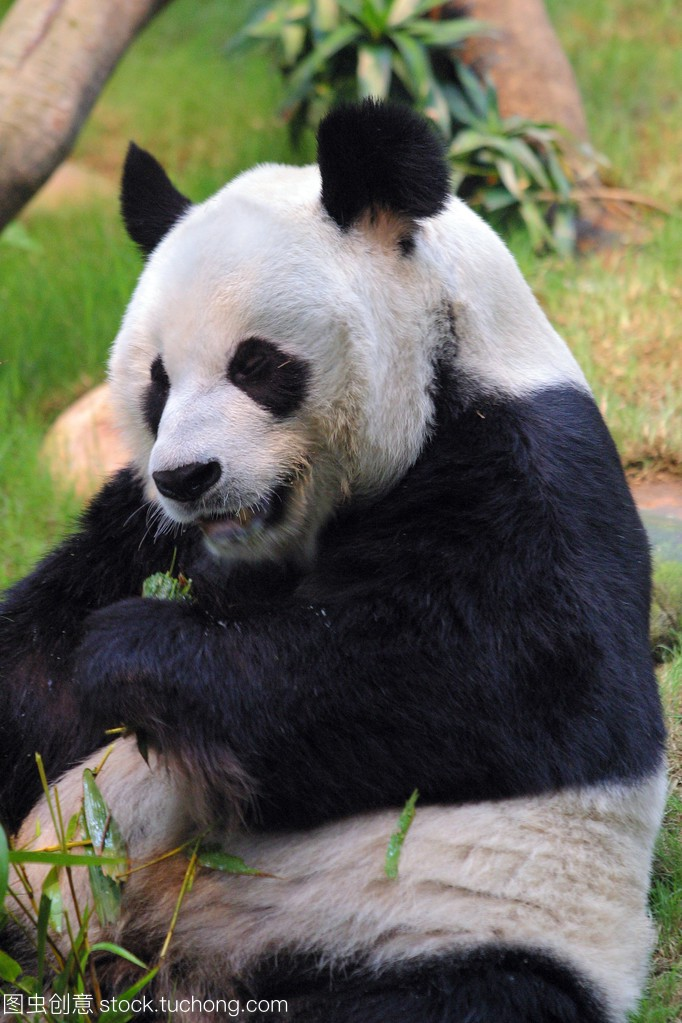panda: (16, 110, 671, 1023)
